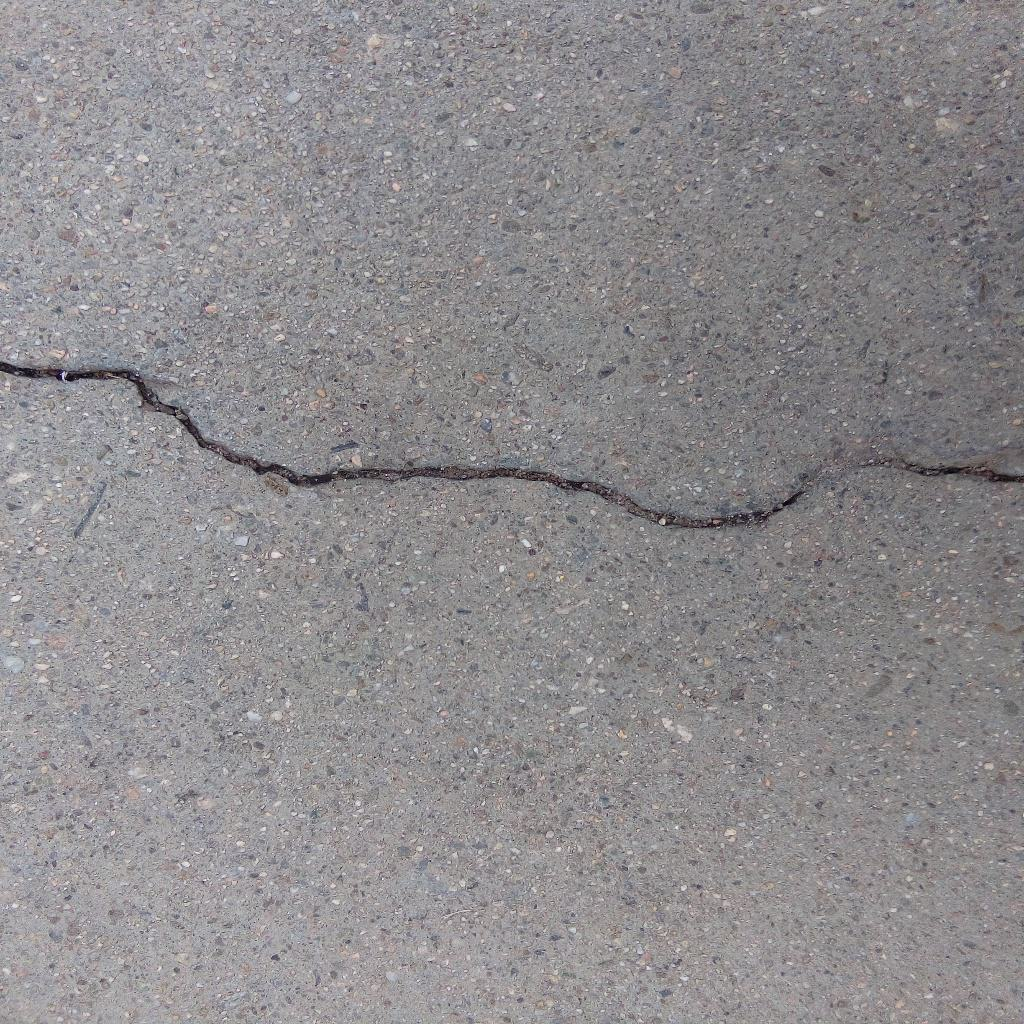Crack: (1, 360, 1024, 531)
